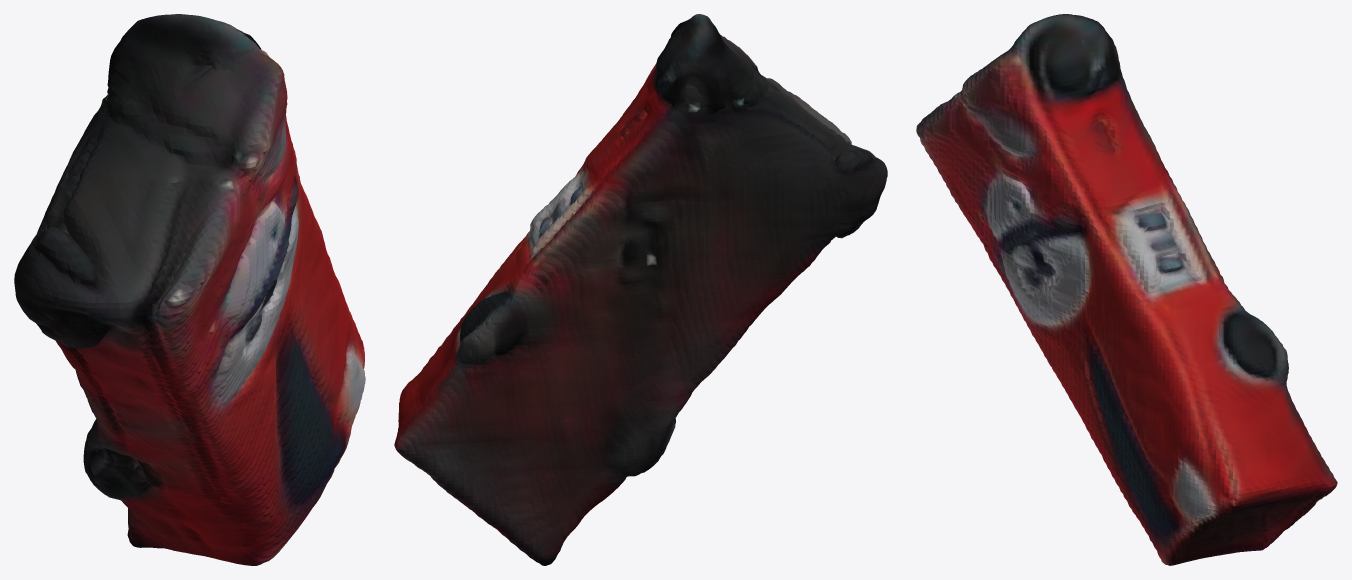
3 views of the same model, side by side, from view 1: azimuth 30°, elevation 25°; view 2: azimuth 150°, elevation 25°; view 3: azimuth 270°, elevation 25° (orthographic). The views are drawn at different scales.
Size of the model in its own units: 0.7062 by 0.8951 by 0.6799.
